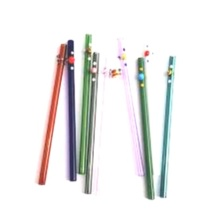drinking_straw: (113, 32, 148, 180), (36, 39, 69, 186), (155, 50, 182, 200), (73, 31, 95, 176)
